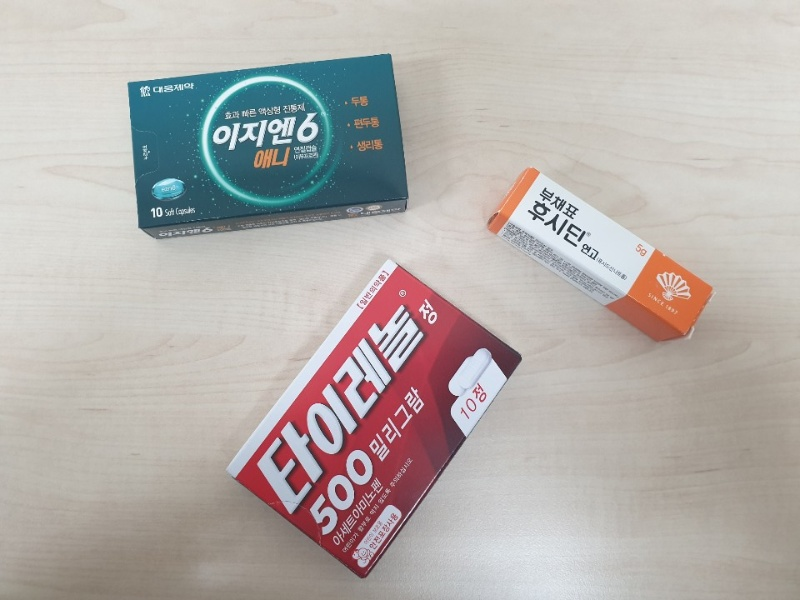ezn: (126, 54, 409, 239)
fucidin: (487, 166, 716, 342)
tylenol: (226, 260, 524, 576)
